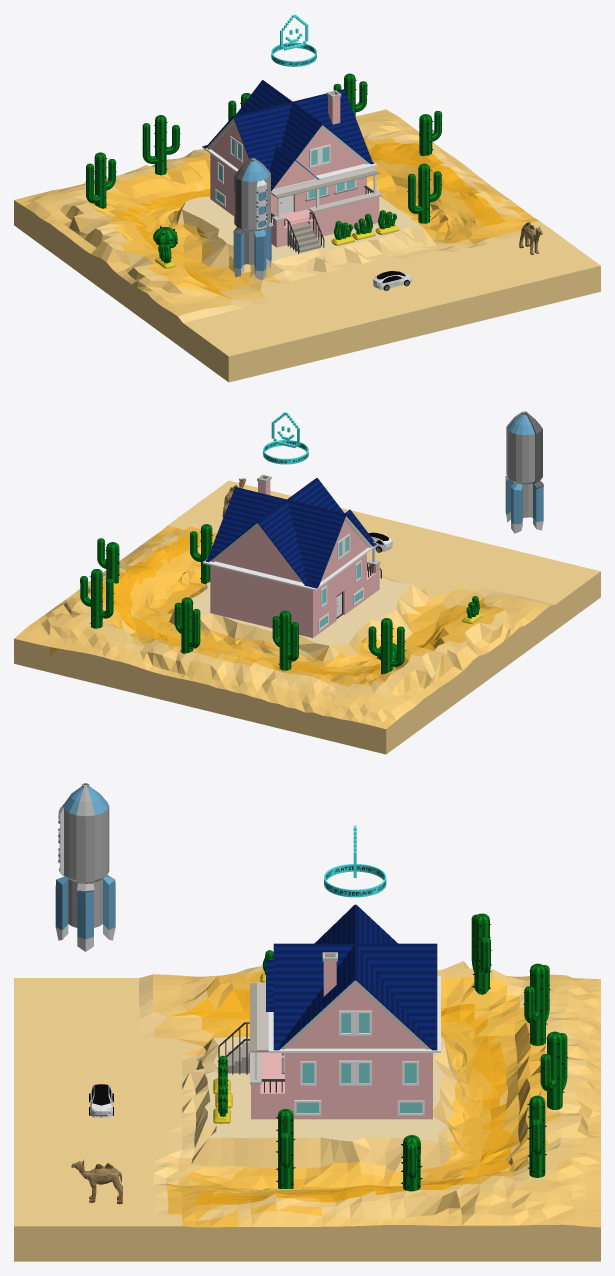
3 views of the same model, one above another, from view 1: azimuth 30°, elevation 25°; view 2: azimuth 150°, elevation 25°; view 3: azimuth 270°, elevation 25° (orthographic). The views are drawn at different scales.
Parts seen in each view (by area): view 1: Cube.001, Cube.313, OBJRANDOM_ROCKETSHIP, Cylinder.044, Cylinder.037, Cylinder.045, TYPE_PREMIUM, Cylinder.038, Cylinder.042, VEHICLES_TESLA; view 2: Cube.001, Cube.313, OBJRANDOM_ROCKETSHIP, Cylinder.042, Cylinder.045, Cylinder.044, Cylinder.043, TYPE_PREMIUM, Cylinder.037, Cylinder.038; view 3: Cube.001, Cube.313, OBJRANDOM_ROCKETSHIP, Cylinder.043, Cylinder.044, Cylinder.045, Cylinder.042, Cylinder.037, TYPE_PREMIUM, Cylinder.038, ANIMAL_CAMELLO, VEHICLES_TESLA.
Part boxes in pixels (bbox=[...]): Cube.001: bbox=[14, 109, 600, 382]; Cube.313: bbox=[202, 80, 381, 253]; OBJRANDOM_ROCKETSHIP: bbox=[233, 158, 271, 280]; Cylinder.044: bbox=[142, 115, 180, 175]; Cylinder.037: bbox=[407, 163, 441, 223]; Cylinder.045: bbox=[85, 152, 116, 208]; TYPE_PREMIUM: bbox=[271, 14, 316, 66]; Cylinder.038: bbox=[419, 111, 442, 156]; Cylinder.042: bbox=[333, 73, 367, 116]; VEHICLES_TESLA: bbox=[373, 271, 411, 290]; Cube.001: bbox=[14, 480, 600, 754]; Cube.313: bbox=[203, 474, 381, 637]; OBJRANDOM_ROCKETSHIP: bbox=[505, 411, 543, 533]; Cylinder.042: bbox=[80, 569, 114, 628]; Cylinder.045: bbox=[368, 618, 405, 674]; Cylinder.044: bbox=[272, 610, 299, 670]; Cylinder.043: bbox=[174, 597, 200, 653]; TYPE_PREMIUM: bbox=[263, 412, 308, 464]; Cylinder.037: bbox=[190, 524, 216, 583]; Cylinder.038: bbox=[97, 538, 119, 583]; Cube.001: bbox=[14, 961, 600, 1261]; Cube.313: bbox=[218, 904, 440, 1119]; OBJRANDOM_ROCKETSHIP: bbox=[55, 783, 115, 951]; Cylinder.043: bbox=[539, 1031, 567, 1109]; Cylinder.044: bbox=[523, 963, 550, 1045]; Cylinder.045: bbox=[471, 913, 491, 994]; Cylinder.042: bbox=[527, 1095, 546, 1177]; Cylinder.037: bbox=[276, 1109, 295, 1188]; TYPE_PREMIUM: bbox=[324, 825, 386, 897]; Cylinder.038: bbox=[401, 1135, 422, 1191]; ANIMAL_CAMELLO: bbox=[71, 1160, 122, 1204]; VEHICLES_TESLA: bbox=[89, 1084, 113, 1117].
Size of the model in its own units: 4002 by 2589 by 4001.
36 materials, 3 textured.
